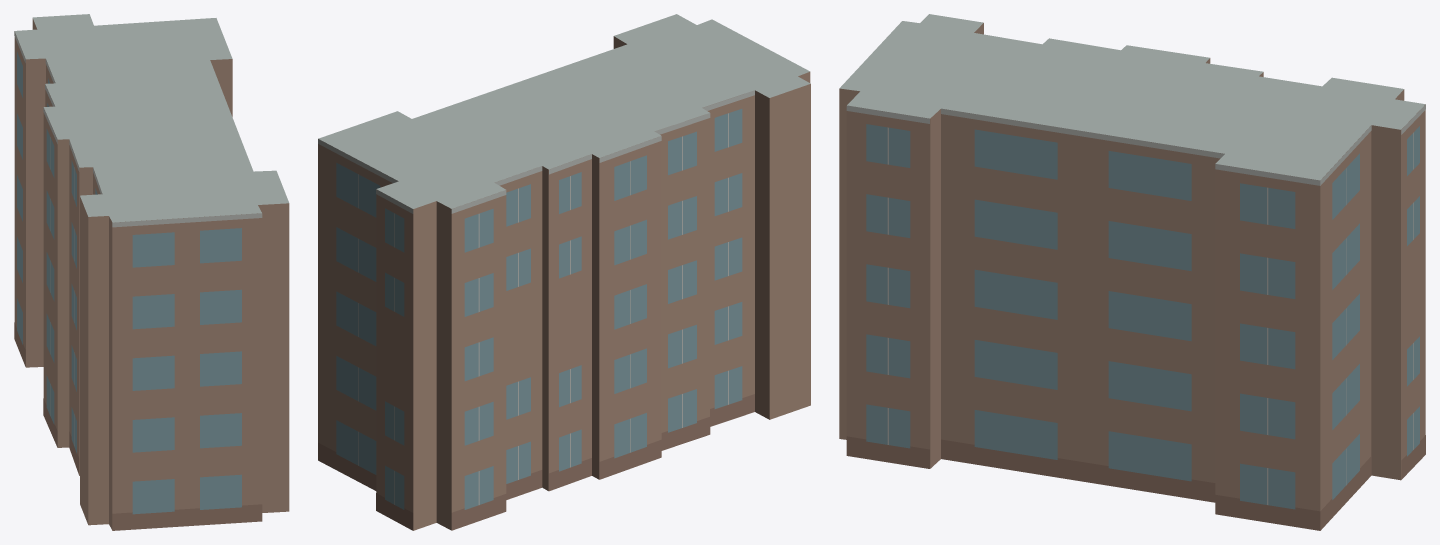
File: survey-upis-33017245.glb
3 views of the same model, side by side, from view 1: azimuth 30°, elevation 25°; view 2: azimuth 150°, elevation 25°; view 3: azimuth 270°, elevation 25° (orthographic). The views are drawn at different scales.
Parts seen in each view (by area): view 1: survey-upis-33017245.tmp; view 2: survey-upis-33017245.tmp; view 3: survey-upis-33017245.tmp.
Boxes of the visible parts, x1,y1,x2,y2 form: survey-upis-33017245.tmp: (14, 14, 289, 530); survey-upis-33017245.tmp: (318, 14, 810, 530); survey-upis-33017245.tmp: (839, 14, 1425, 530).
Bounding box in the file's own units: 15.9 × 15.6 × 23.67.
